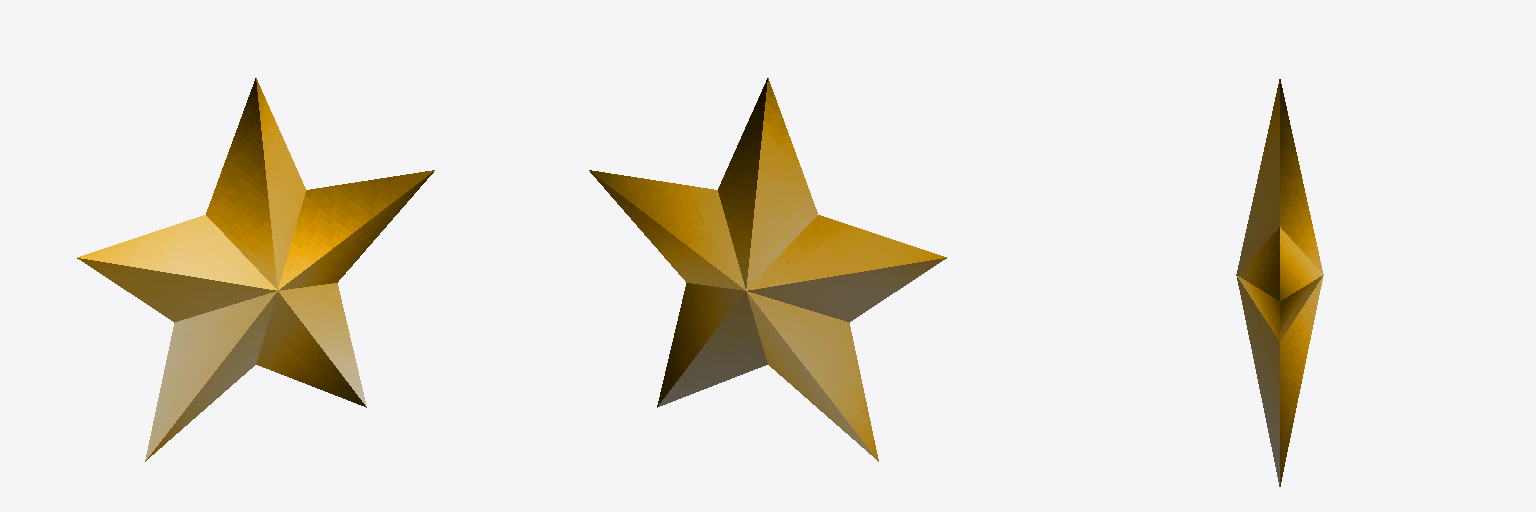
The picture shows the model from 3 angles: view 1: azimuth 30°, elevation 25°; view 2: azimuth 150°, elevation 25°; view 3: azimuth 270°, elevation 25°; orthographic projection.
Visible parts, largest first — view 1: CRASH_STAR; view 2: CRASH_STAR; view 3: CRASH_STAR.
Part boxes in pixels (bbox=[...]): CRASH_STAR: bbox=[77, 78, 434, 461]; CRASH_STAR: bbox=[589, 78, 946, 461]; CRASH_STAR: bbox=[1236, 79, 1323, 486].
Bounding box in the file's own units: 28.53 × 27.14 × 6.
Materials: 2 (1 with a texture image).